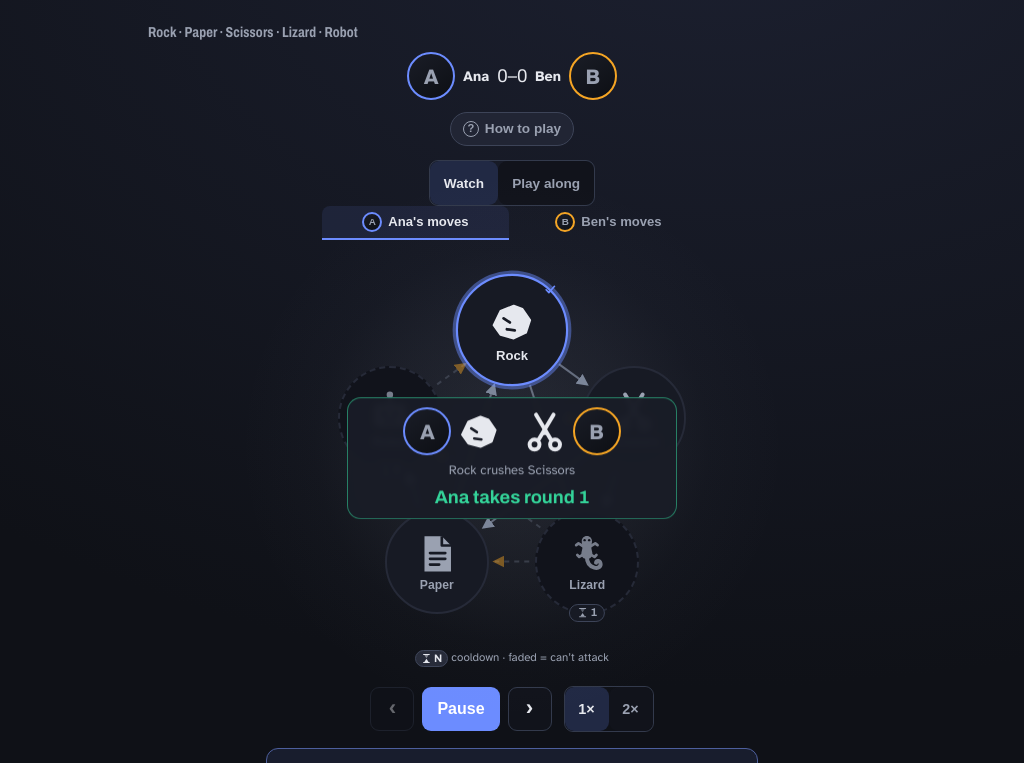
it: <ReplayPage> › ends on the final score with the winner named
This screenshot has width=1024, height=763.
Expected: the text "Ana" is shown, [463,67,489,85]
What coordinates should you click on to do the following:
click the button named "Next round"
I would click on:
 (530, 709)
Its box is [508,687,552,731].
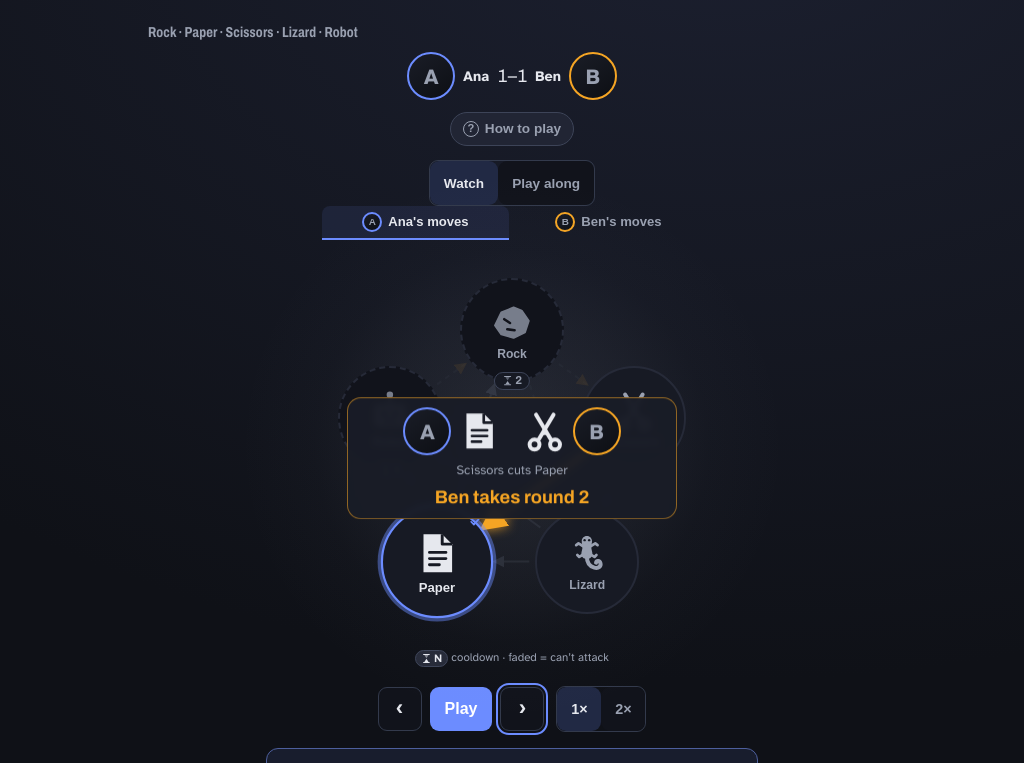
What coordinates should you click on to do the following:
click the button named "Next round"
I would click on:
 (522, 709)
Its box is [500,687,544,731].
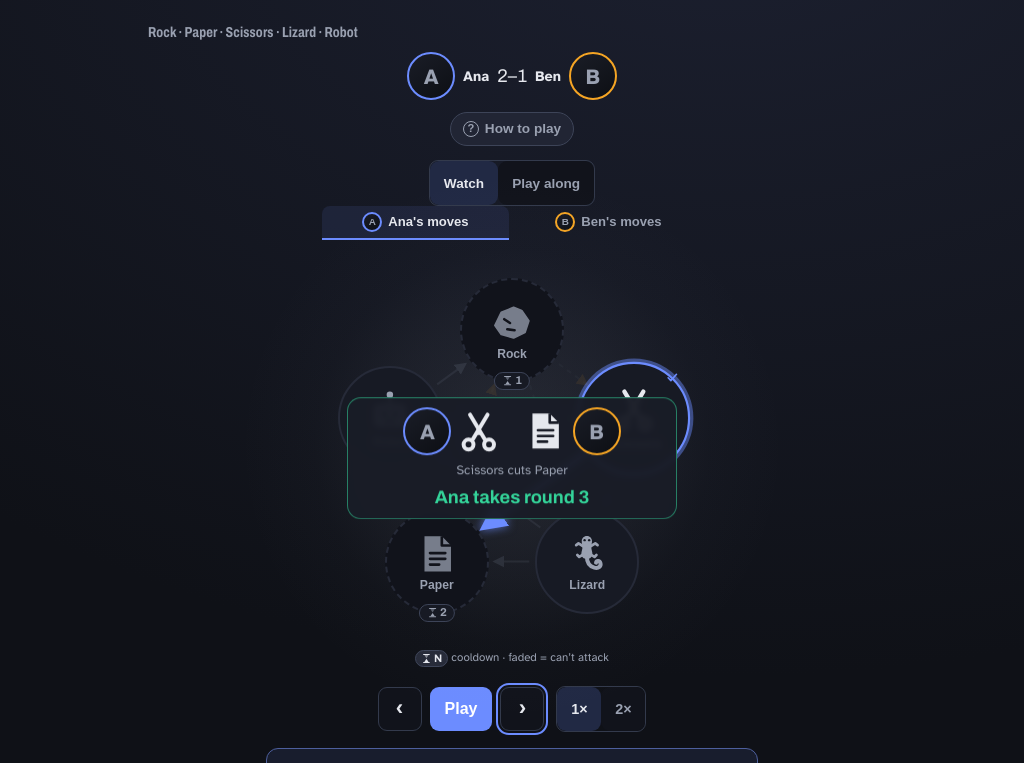
What coordinates should you click on to do the following:
click the button named "Next round"
I would click on:
 (522, 709)
Its box is [500,687,544,731].
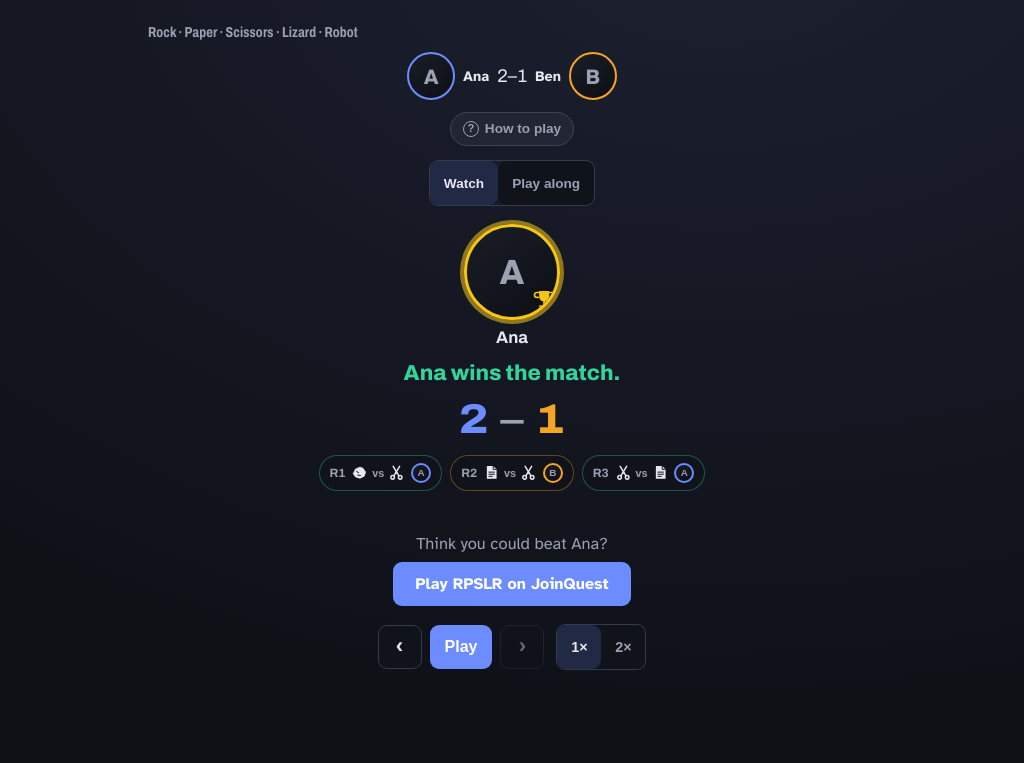
Expected: the text "Ana wins the match." is shown, [404,361,620,385]
